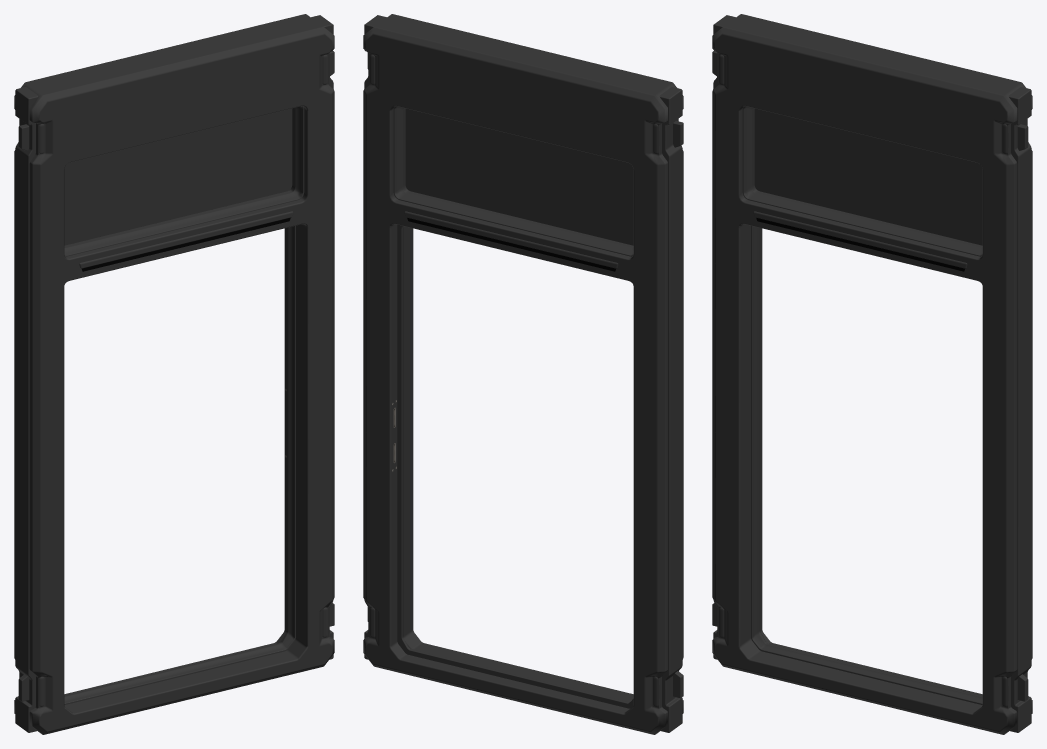
File: SM_Wall_Door_Single_Sec2.FBX
3 renders of one model, left to right at view 1: azimuth 30°, elevation 25°; view 2: azimuth 150°, elevation 25°; view 3: azimuth 330°, elevation 25°, orthographic.
Parts seen in each view (by area): view 1: SM_Wall_Door_Single_Sec2_LOD0; view 2: SM_Wall_Door_Single_Sec2_LOD0; view 3: SM_Wall_Door_Single_Sec2_LOD0.
Part boxes in pixels (x1,y1,x2,y2): SM_Wall_Door_Single_Sec2_LOD0: (14, 14, 334, 734); SM_Wall_Door_Single_Sec2_LOD0: (363, 14, 683, 734); SM_Wall_Door_Single_Sec2_LOD0: (712, 14, 1032, 734).
Size of what is drawn, in the model's own units: 154 by 21.81 by 300.
